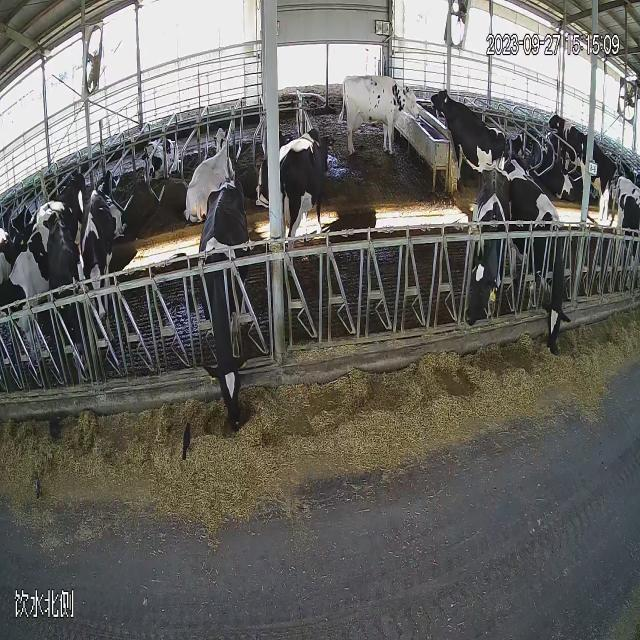feeding: (186, 172, 256, 440), (508, 150, 580, 387), (26, 462, 52, 505)
lying down: (178, 129, 238, 232), (138, 124, 184, 189)
standing: (536, 101, 624, 243), (265, 111, 334, 284), (458, 153, 517, 354), (428, 66, 500, 210), (72, 178, 127, 361), (338, 68, 424, 180), (174, 406, 196, 478)
